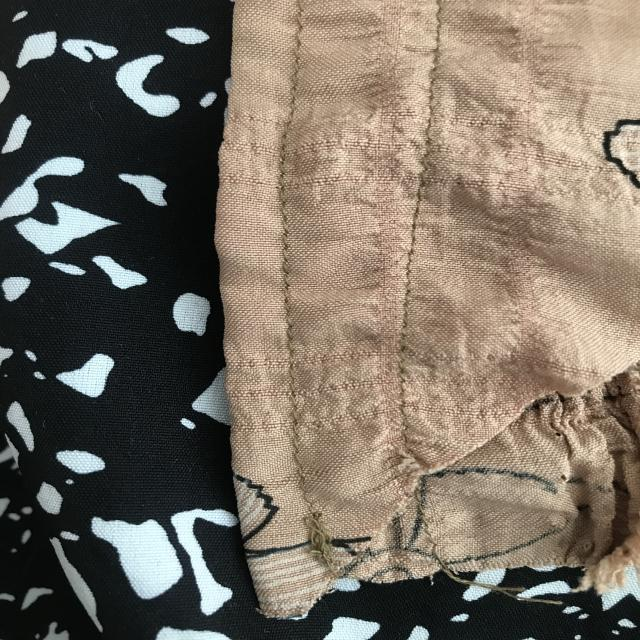good: (265, 295, 316, 464), (270, 145, 310, 285)
